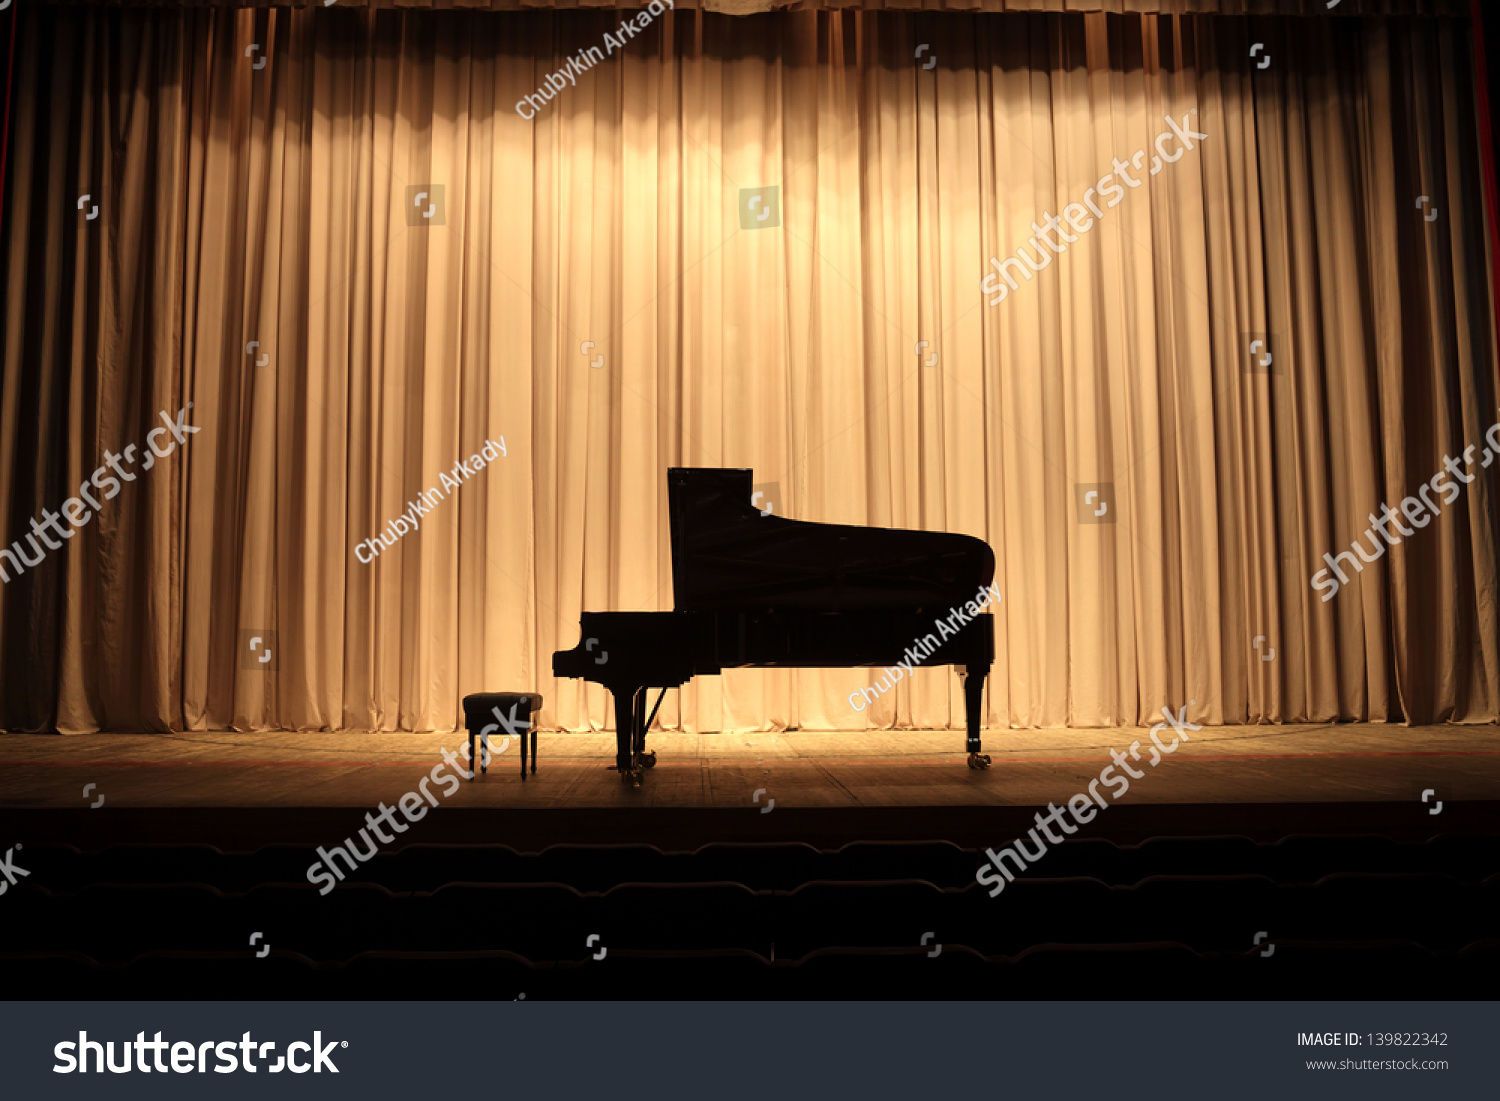Piano: (480, 370, 1257, 922)
